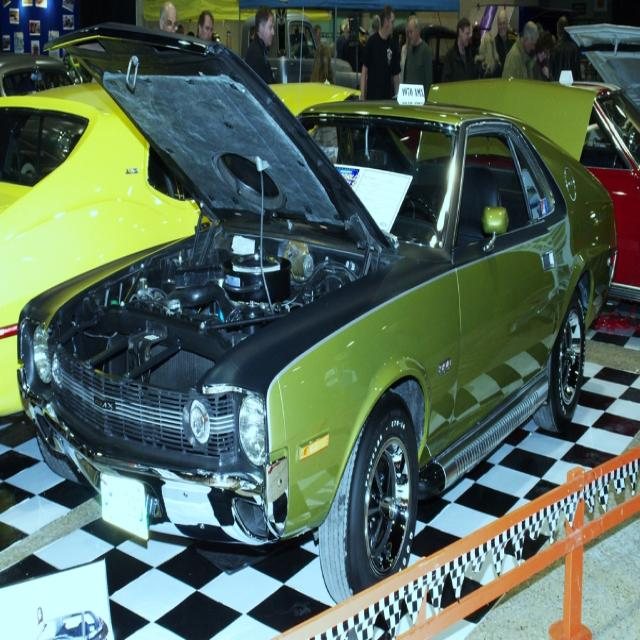car: (16, 14, 616, 605)
